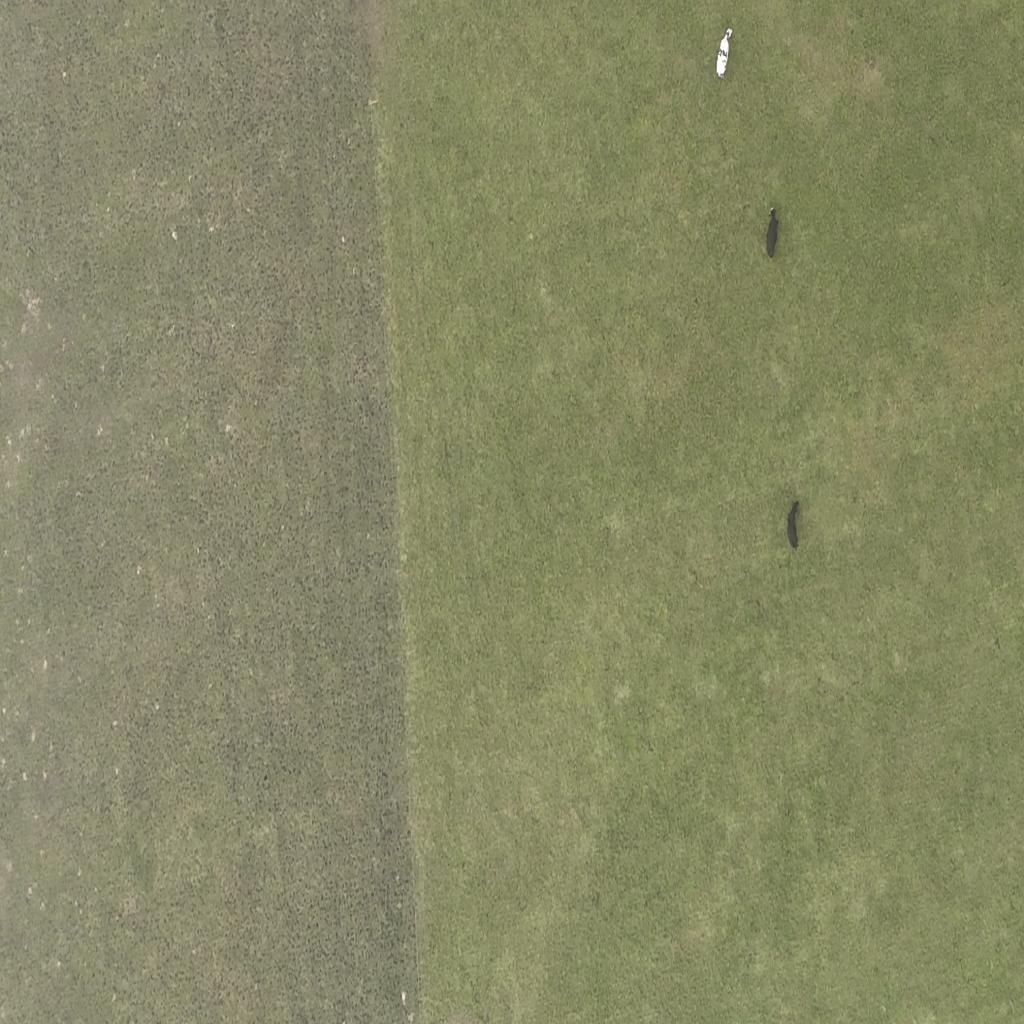cow: (713, 23, 735, 83), (785, 496, 801, 550), (765, 208, 779, 260)
